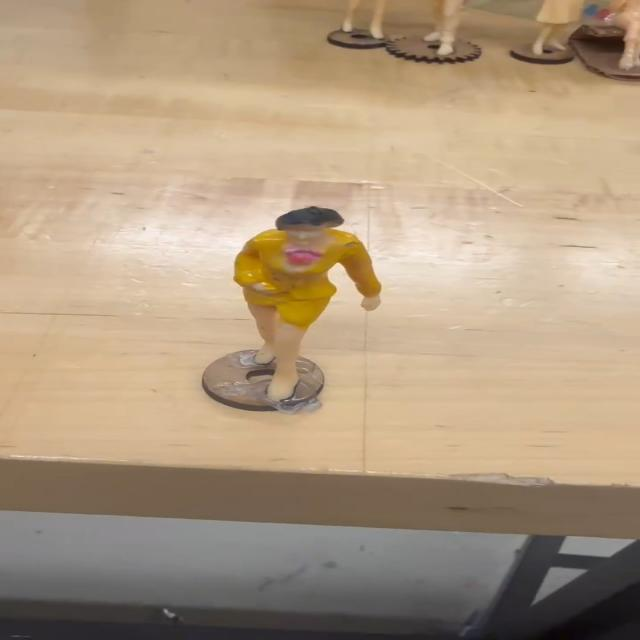Authorized: (220, 201, 399, 427)
